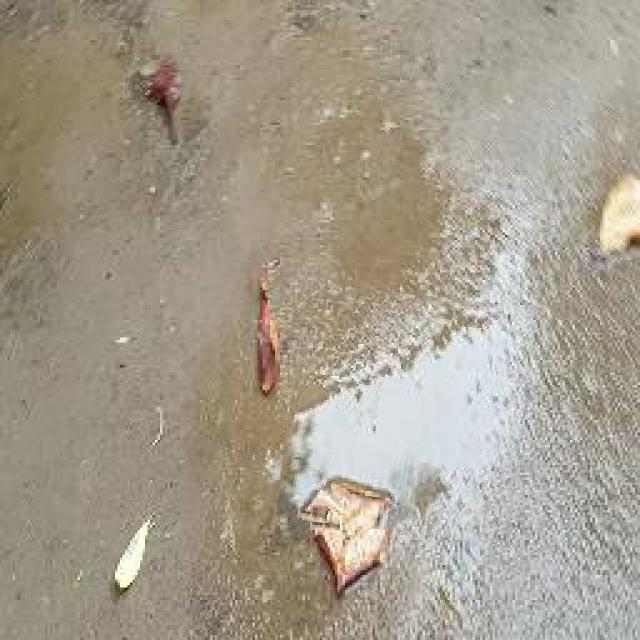puddle: (283, 288, 531, 540)
